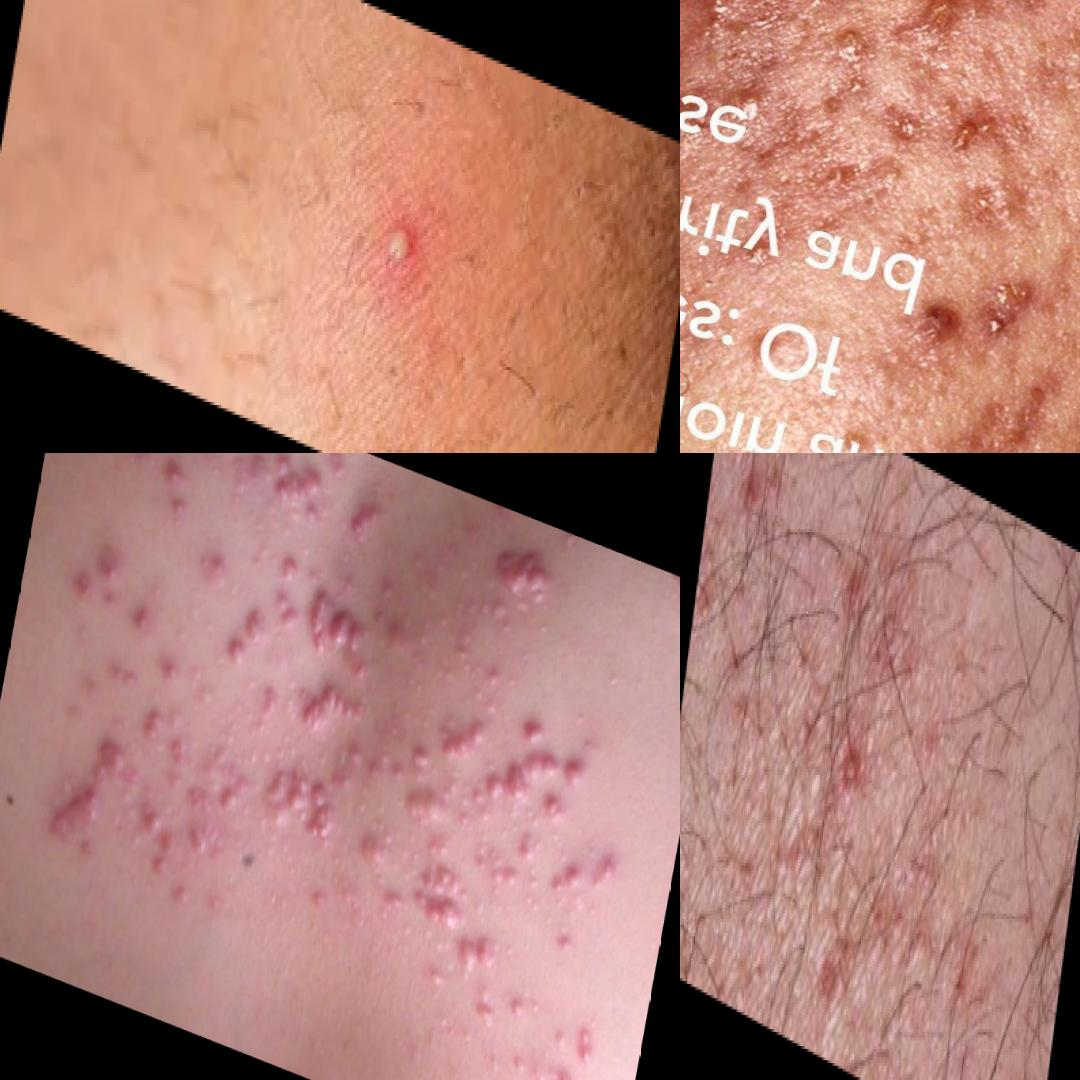acne_scars: (953, 378, 1080, 454)
blackhead: (562, 167, 627, 272)
folliculitis: (370, 211, 422, 301), (828, 745, 863, 821)
keloid: (480, 725, 565, 829), (294, 673, 373, 755), (409, 856, 477, 938), (940, 87, 997, 177), (47, 773, 104, 855), (498, 538, 559, 614), (439, 704, 498, 779), (318, 601, 376, 668), (399, 777, 455, 845), (894, 1, 955, 55), (302, 781, 343, 852), (92, 733, 136, 791)
papular: (543, 854, 587, 913), (64, 565, 107, 622), (734, 460, 767, 530), (570, 1017, 604, 1074), (593, 850, 624, 900), (239, 603, 268, 650), (222, 635, 252, 676), (547, 1063, 581, 1080)
sebo-crystan-conglo: (127, 798, 218, 919), (961, 252, 1050, 362), (681, 1, 838, 61), (187, 754, 254, 834), (266, 454, 337, 528), (259, 757, 315, 841), (139, 699, 199, 772), (468, 834, 526, 899), (454, 927, 507, 994), (327, 734, 374, 807), (302, 578, 340, 664), (339, 492, 388, 552), (351, 816, 396, 879), (269, 590, 304, 639), (277, 544, 307, 593), (115, 454, 184, 474), (546, 790, 569, 832)
whitehead: (412, 913, 459, 968), (427, 648, 470, 701), (240, 726, 272, 778)
